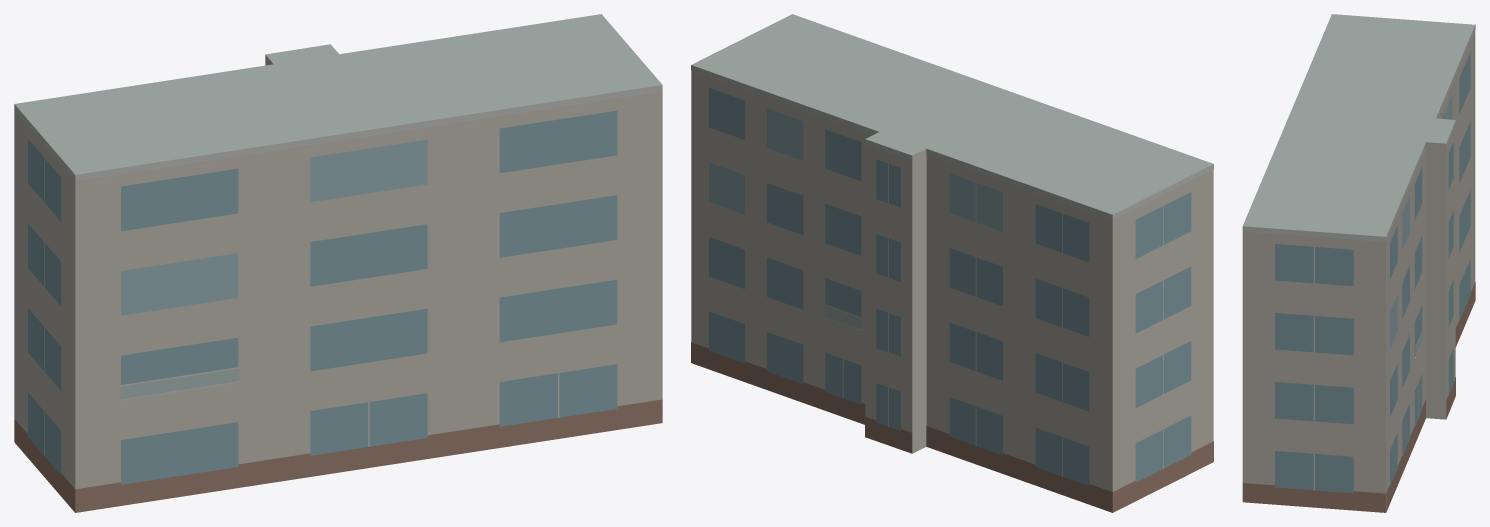
The model's file is survey-upis-32870686.glb.
3 renders of one model, left to right at view 1: azimuth 30°, elevation 25°; view 2: azimuth 150°, elevation 25°; view 3: azimuth 270°, elevation 25°, orthographic. The views are drawn at different scales.
Parts seen in each view (by area): view 1: survey-upis-32870686.tmp; view 2: survey-upis-32870686.tmp; view 3: survey-upis-32870686.tmp.
Part boxes in pixels (x1=…): survey-upis-32870686.tmp: x1=14, y1=14, x2=662, y2=512; survey-upis-32870686.tmp: x1=691, y1=14, x2=1213, y2=512; survey-upis-32870686.tmp: x1=1242, y1=14, x2=1475, y2=512.
Bounding box in the file's own units: 22.52 × 13 × 9.95.
